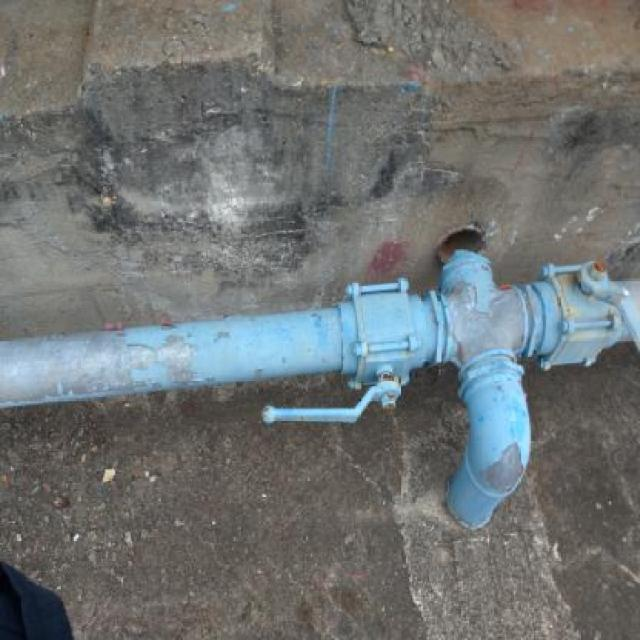gas: (5, 273, 640, 402), (441, 256, 537, 527)
